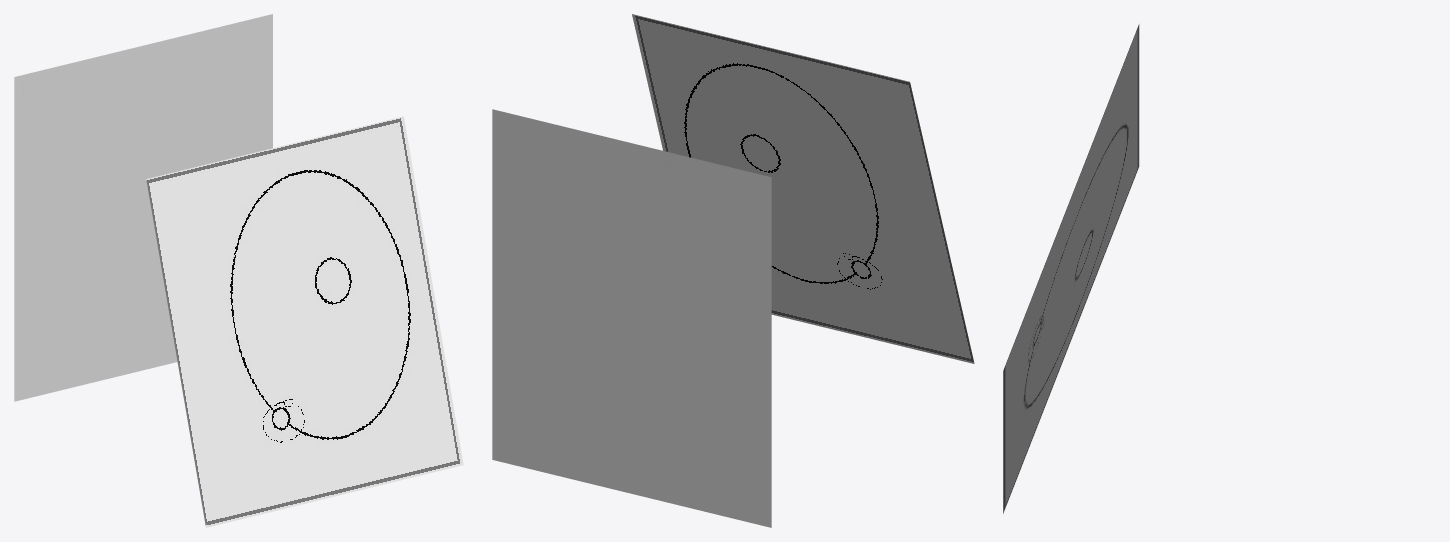
Rendered from Basic ride.glb.
The picture shows the model from 3 angles, left to right: view 1: azimuth 30°, elevation 25°; view 2: azimuth 150°, elevation 25°; view 3: azimuth 270°, elevation 25°; orthographic projection. The views are drawn at different scales.
Parts seen in each view (by area): view 1: mesh_id29, mesh_id1; view 2: mesh_id1, mesh_id29; view 3: mesh_id29.
Part boxes in pixels (bbox=[...]): mesh_id29: bbox=[146, 116, 463, 527]; mesh_id1: bbox=[14, 14, 272, 401]; mesh_id1: bbox=[492, 109, 771, 527]; mesh_id29: bbox=[632, 14, 974, 363]; mesh_id29: bbox=[1003, 24, 1139, 513].
Bounding box in the file's own units: 0.281 × 0.336 × 0.356.
Materials: 2 (2 with a texture image).
